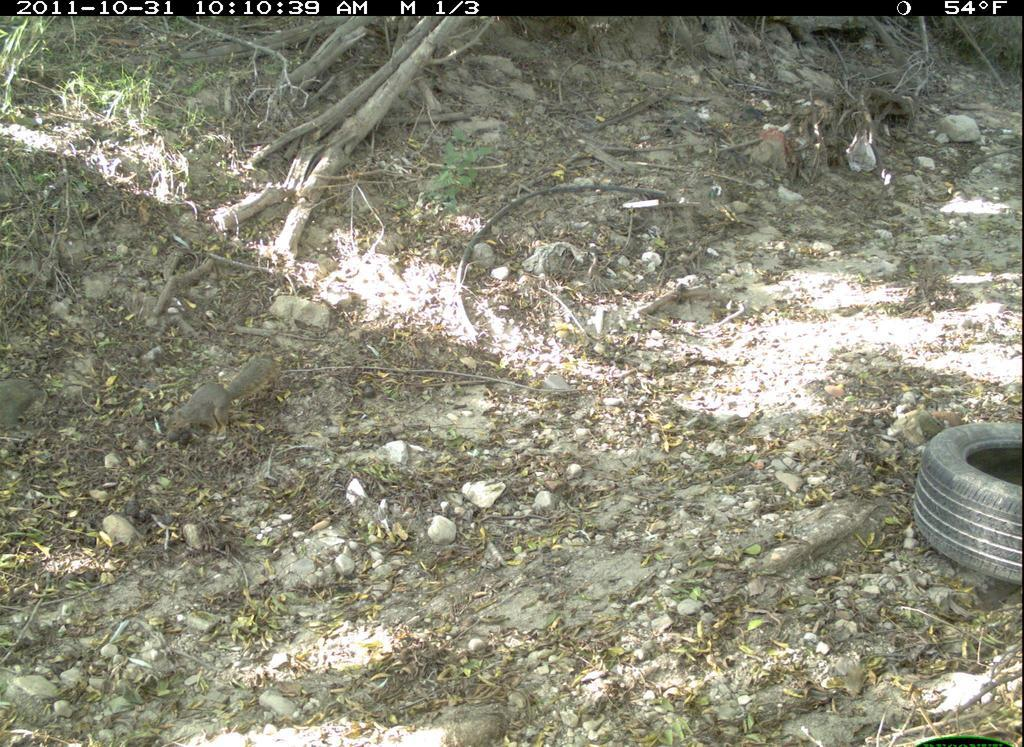squirrel: (145, 340, 300, 456)
